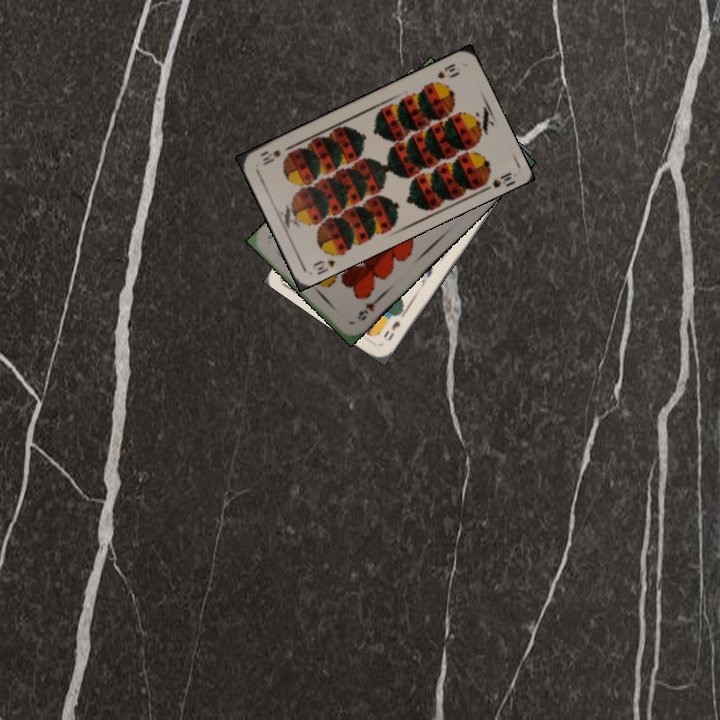EO: (379, 309, 407, 343)
H9: (353, 294, 382, 323)
S10: (308, 248, 344, 277), (433, 59, 461, 81)
